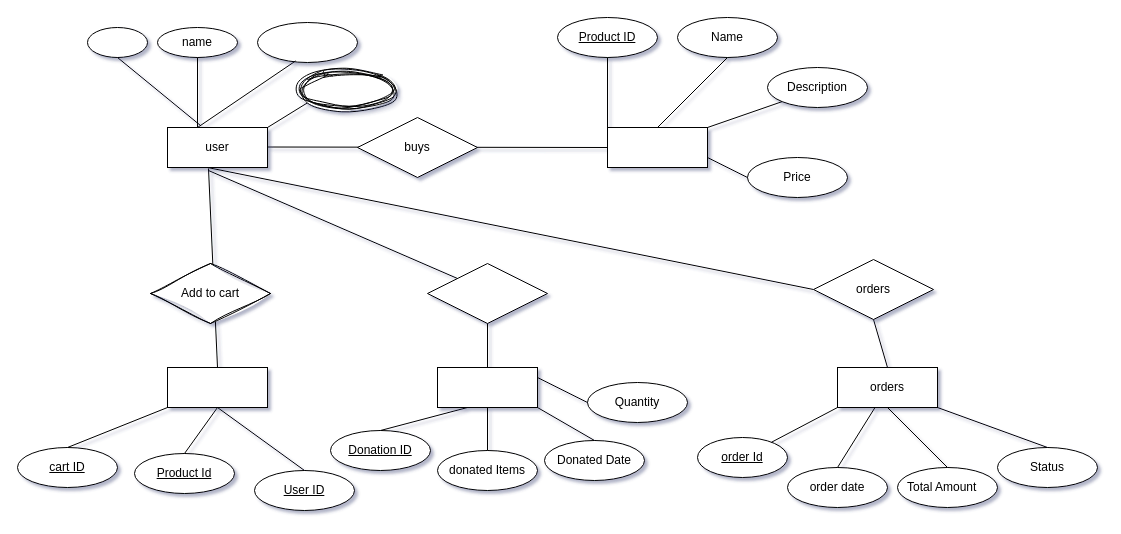
This 1121x534 diagram has some shape labels left out. Each missing label, with the centre of its shape:
cart: (x=217, y=387)
Contact NO: (x=347, y=89)
donates: (x=487, y=293)
donations: (x=487, y=387)
email: (x=307, y=42)
id: (x=117, y=42)
products: (x=657, y=147)
